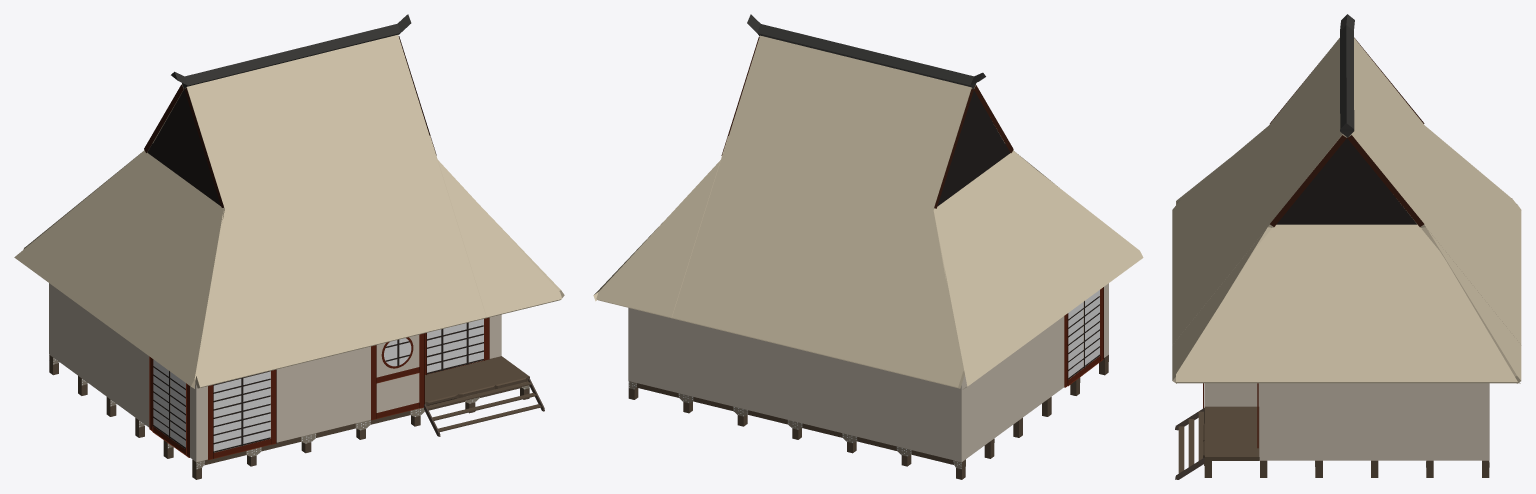
The model's file is kicsihaz.fbx.
The picture shows the model from 3 angles, left to right: view 1: azimuth 30°, elevation 25°; view 2: azimuth 150°, elevation 25°; view 3: azimuth 270°, elevation 25°; orthographic projection. The views are drawn at different scales.
Parts seen in each view (by area): view 1: Cube.007, Cube.003, Cube, Circle.006, Cube.009, Cube.008, Plane.014, Plane.013, Cube.001, Cube.005, Plane.044, Cube.002 (+4 smaller); view 2: Cube.007, Cube, Cube.003, Circle.006, Cube.008, Cube.001, Cube.002, Plane.017, Plane.018; view 3: Cube.007, Cube.003, Cube, Circle.005, Cube.009, Cube.008, Cube.005, Cube.001, Plane, Plane.001.
Boxes of the visible parts, box(x1,y1,x2,y2) form: Cube.007: box(23, 35, 561, 388); Cube.003: box(14, 151, 564, 388); Cube: box(49, 283, 501, 462); Circle.006: box(147, 89, 220, 205); Cube.009: box(425, 356, 529, 405); Cube.008: box(171, 14, 411, 88); Plane.014: box(213, 379, 241, 450); Plane.013: box(243, 371, 270, 443); Cube.001: box(49, 355, 529, 479); Cube.005: box(427, 381, 541, 431); Plane.044: box(454, 319, 483, 365); Cube.002: box(197, 381, 527, 465); Cube.007: box(596, 35, 1057, 388); Cube: box(628, 283, 1108, 462); Cube.003: box(593, 151, 1143, 389); Circle.006: box(937, 90, 1010, 206); Cube.008: box(747, 14, 985, 89); Cube.001: box(628, 355, 1108, 479); Cube.002: box(636, 383, 953, 464); Plane.017: box(1068, 302, 1083, 377); Plane.018: box(1085, 290, 1099, 365); Cube.007: box(1172, 38, 1521, 383); Cube.003: box(1176, 158, 1520, 383); Cube: box(1204, 383, 1489, 460); Circle.005: box(1276, 138, 1416, 224); Cube.009: box(1203, 406, 1259, 460); Cube.008: box(1340, 14, 1354, 137); Cube.005: box(1178, 411, 1203, 473); Cube.001: box(1204, 460, 1489, 477); Plane: box(1347, 135, 1424, 226); Plane.001: box(1270, 135, 1346, 226).
Size of the model in its own units: 2183 by 1922 by 1823.
